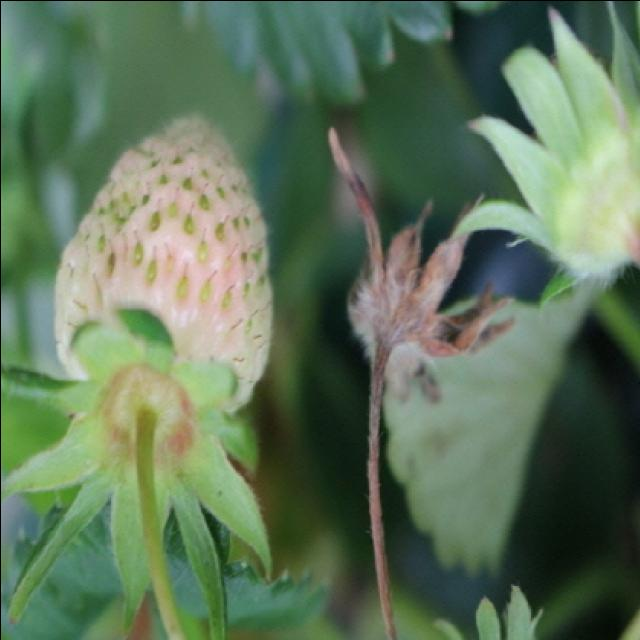Gray Mold: (326, 124, 519, 409)
